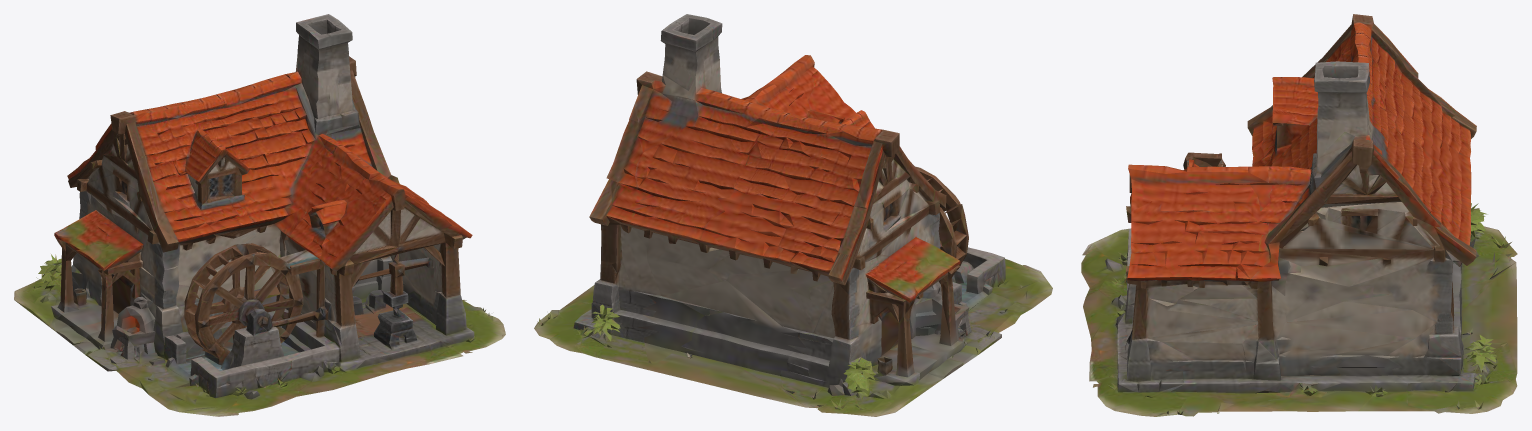
The model's file is blacksmith.glb.
3 views of the same model, side by side, from view 1: azimuth 30°, elevation 25°; view 2: azimuth 150°, elevation 25°; view 3: azimuth 270°, elevation 25° (orthographic). The views are drawn at different scales.
Size of the model in its own units: 1.9 by 1.35 by 1.8.
1 material, 1 textured.
